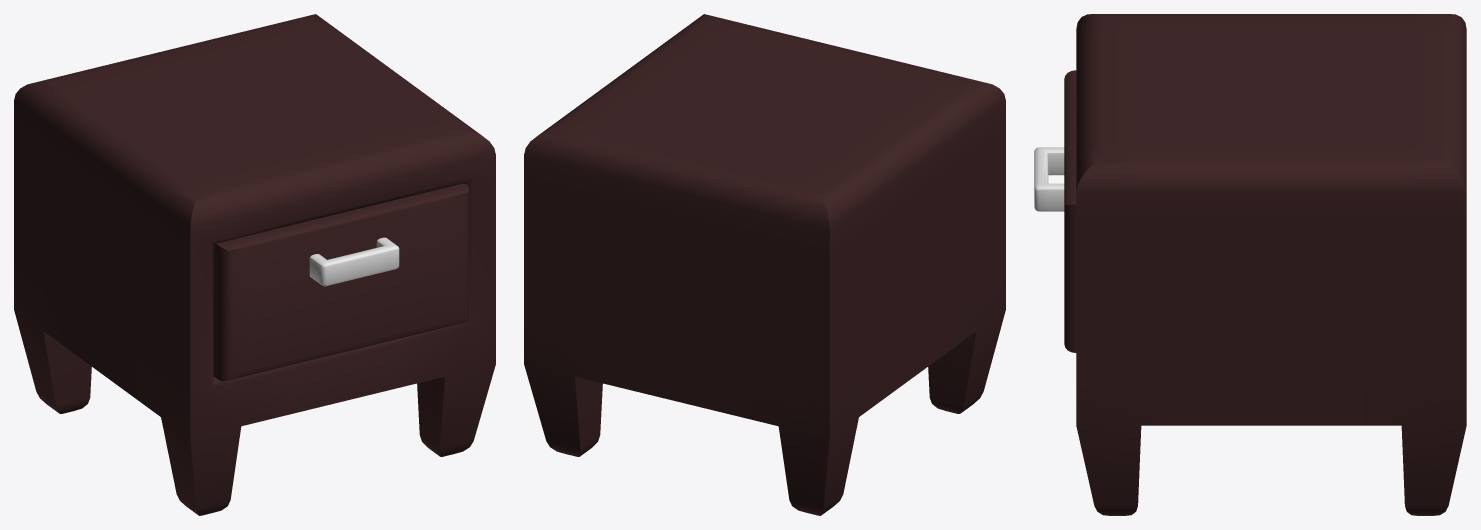
Rendered from Commode.fbx.
3 views of the same model, side by side, from view 1: azimuth 30°, elevation 25°; view 2: azimuth 150°, elevation 25°; view 3: azimuth 270°, elevation 25° (orthographic). The views are drawn at different scales.
Parts seen in each view (by area): view 1: Commode, Commode_drawr; view 2: Commode; view 3: Commode, Commode_drawr.
Boxes of the visible parts, bbox=[...] form: Commode: bbox=[14, 14, 495, 515]; Commode_drawr: bbox=[213, 183, 468, 381]; Commode: bbox=[524, 14, 1005, 515]; Commode: bbox=[1076, 14, 1466, 515]; Commode_drawr: bbox=[1034, 70, 1076, 352].
Bounding box in the file's own units: 0.6352 × 0.6495 × 0.7035.
